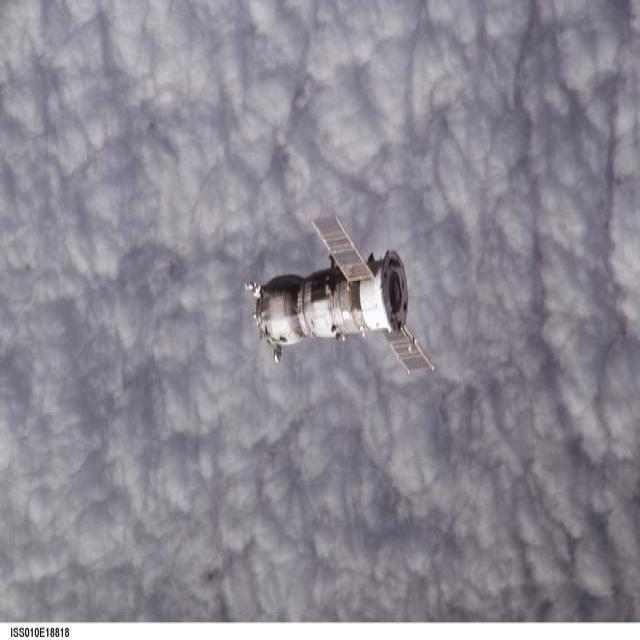satellite: (256, 201, 450, 404)
